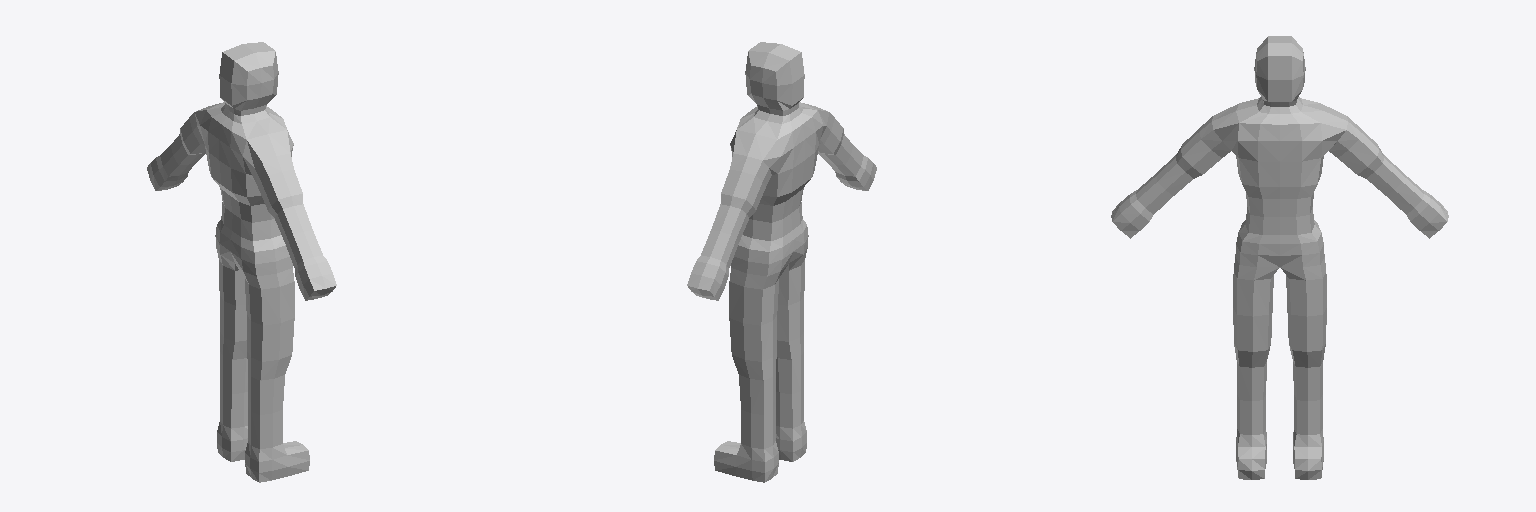
Rendered from boxman_2.obj.
The picture shows the model from 3 angles: view 1: azimuth 30°, elevation 25°; view 2: azimuth 150°, elevation 25°; view 3: azimuth 270°, elevation 25°; orthographic projection.
Parts seen in each view (by area): view 1: PlayerMesh_Cube.002; view 2: PlayerMesh_Cube.002; view 3: PlayerMesh_Cube.002.
Boxes of the visible parts, x1=… form: PlayerMesh_Cube.002: x1=147, y1=42, x2=336, y2=482; PlayerMesh_Cube.002: x1=687, y1=42, x2=876, y2=482; PlayerMesh_Cube.002: x1=1111, y1=36, x2=1448, y2=479.
Bounding box in the file's own units: 0.3659 × 1.99 × 1.45.